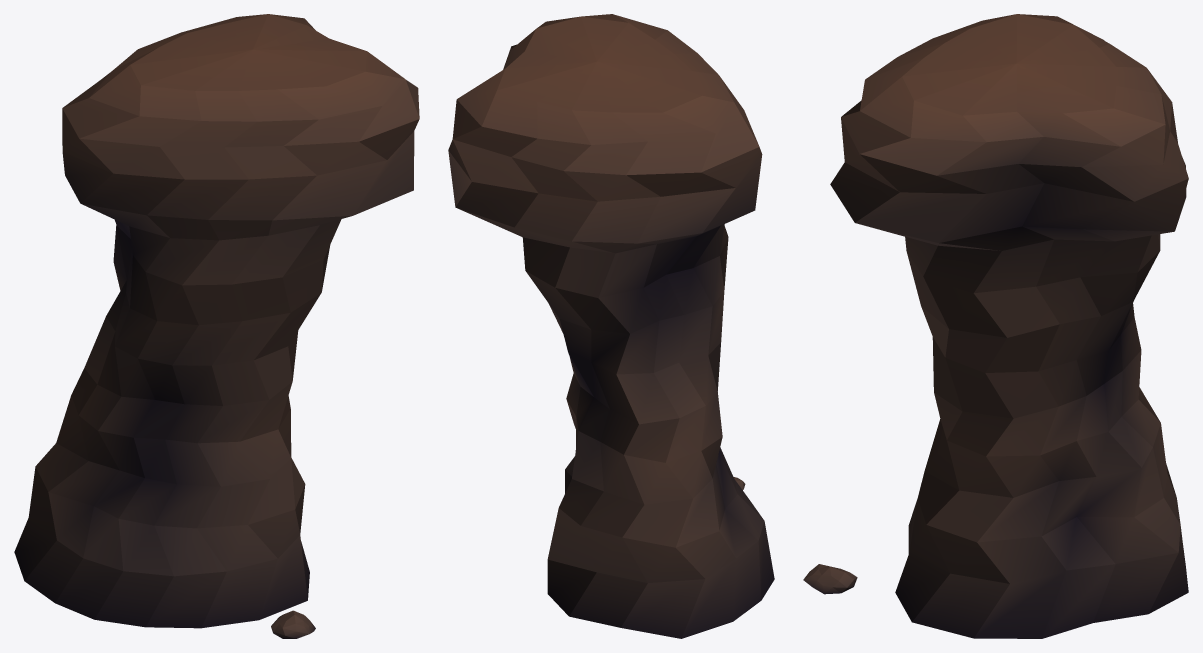
Rendered from eroded.lod0.glb.
3 renders of one model, left to right at view 1: azimuth 30°, elevation 25°; view 2: azimuth 150°, elevation 25°; view 3: azimuth 270°, elevation 25°, orthographic. The views are drawn at different scales.
Parts seen in each view (by area): view 1: eroded_s1_lod0; view 2: eroded_s1_lod0; view 3: eroded_s1_lod0.
Boxes of the visible parts, bbox=[...] form: eroded_s1_lod0: bbox=[14, 14, 419, 638]; eroded_s1_lod0: bbox=[448, 14, 774, 638]; eroded_s1_lod0: bbox=[803, 14, 1188, 638].
Size of the model in its own units: 2.04 by 3.2 by 2.01.
